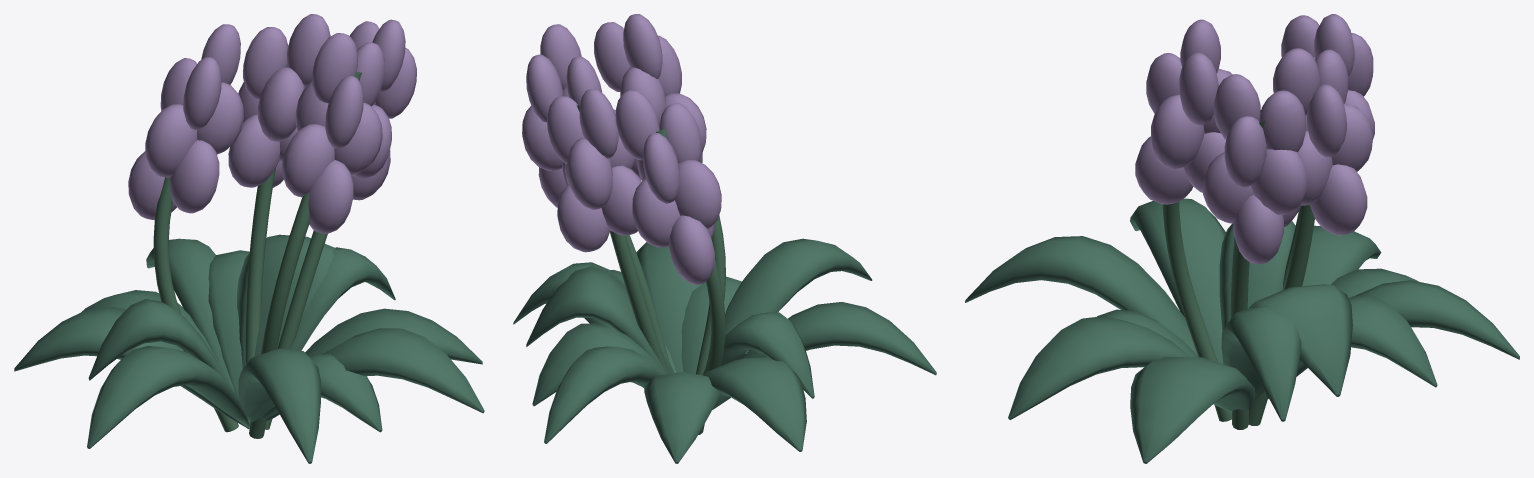
3 views of the same model, side by side, from view 1: azimuth 30°, elevation 25°; view 2: azimuth 150°, elevation 25°; view 3: azimuth 270°, elevation 25° (orthographic). The views are drawn at different scales.
Visible parts, largest first — view 1: Lavender_tall; view 2: Lavender_tall; view 3: Lavender_tall.
Boxes of the visible parts, x1=… form: Lavender_tall: x1=14, y1=14, x2=484, y2=463; Lavender_tall: x1=513, y1=14, x2=936, y2=463; Lavender_tall: x1=965, y1=14, x2=1519, y2=463.
Size of the model in its own units: 0.8433 by 0.796 by 0.9126.
1 material, 1 textured.
